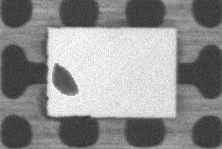DIE_INK: (51, 61, 79, 96)
